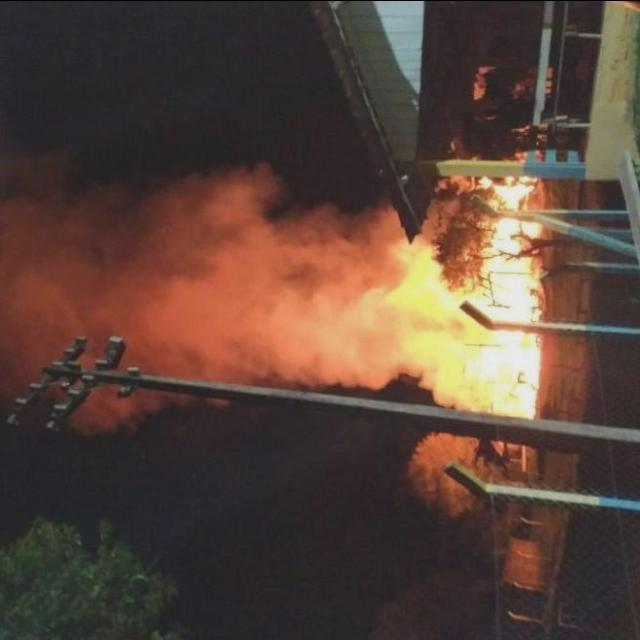Fire: (394, 175, 542, 406)
